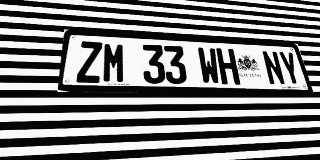3: (142, 44, 166, 84), (163, 45, 187, 84)
H: (216, 48, 240, 85)
M: (102, 42, 125, 83)
N: (261, 50, 286, 85)
W: (197, 47, 221, 84)
Y: (277, 51, 303, 86)
Z: (76, 41, 102, 83)
